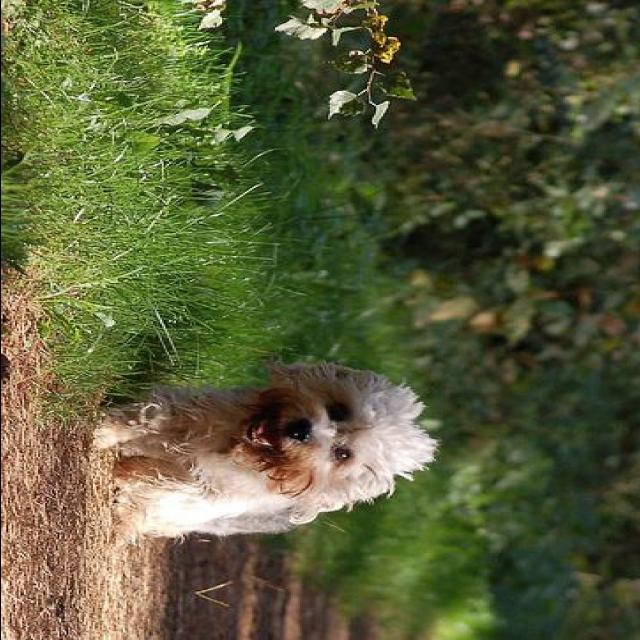dandie_dinmont: (85, 358, 437, 546)
